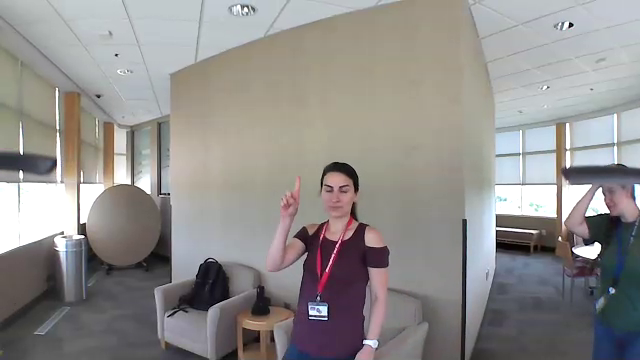up: (272, 172, 307, 221)
